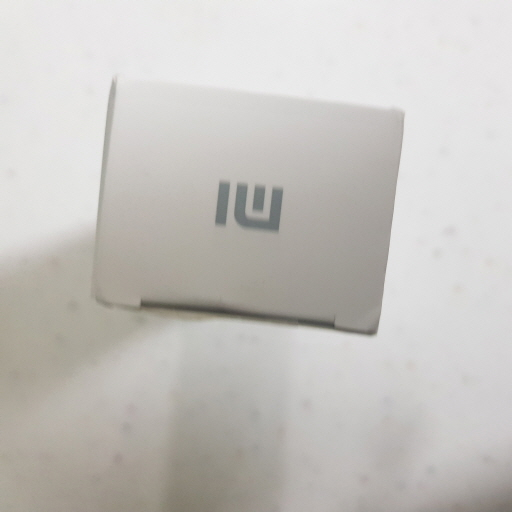Paper_0: (91, 69, 414, 350)
